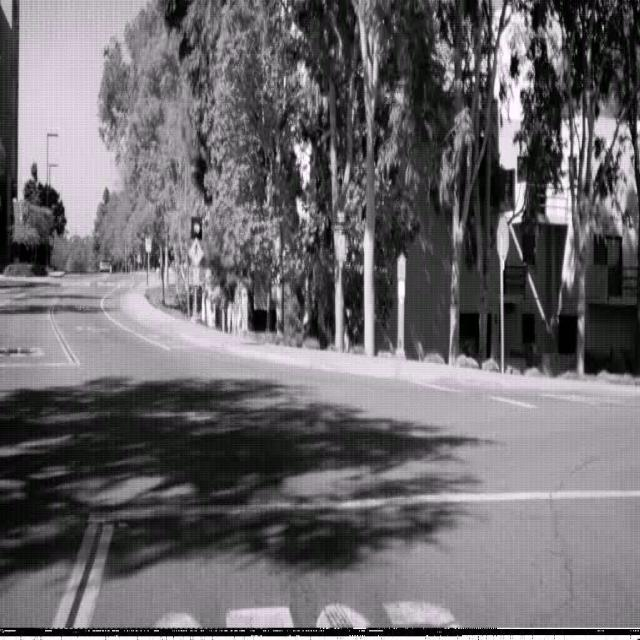pedestrianCrossing: (188, 236, 204, 268)
